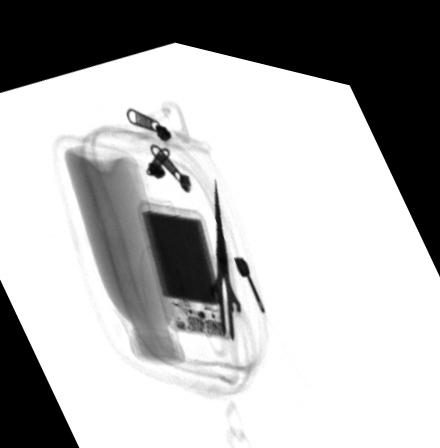Powerbank: (137, 192, 230, 325)
Scissors: (198, 163, 258, 362)
